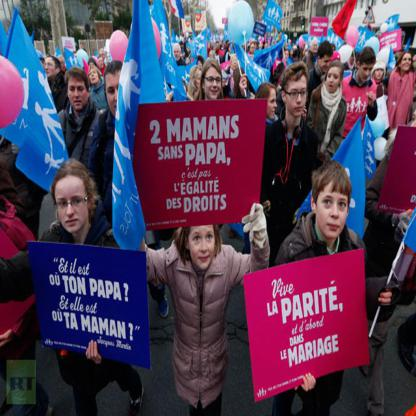face: (317, 176, 348, 240), (55, 177, 89, 234), (190, 225, 216, 271), (106, 73, 127, 116), (286, 82, 307, 117), (68, 79, 88, 111), (205, 68, 222, 100), (266, 90, 278, 120), (327, 68, 341, 93), (360, 59, 374, 81), (321, 51, 333, 73), (46, 58, 56, 78), (401, 55, 412, 72), (91, 69, 100, 85), (411, 111, 416, 138), (197, 71, 204, 90), (375, 66, 384, 79), (233, 58, 240, 71), (312, 41, 319, 53), (395, 48, 400, 64), (175, 48, 180, 60), (251, 45, 256, 54), (100, 59, 105, 68), (198, 60, 203, 69), (351, 56, 355, 67), (286, 52, 290, 62), (358, 61, 362, 71), (102, 52, 106, 61), (90, 62, 94, 71), (291, 51, 295, 58), (210, 54, 214, 61), (414, 57, 416, 70), (230, 45, 233, 53), (304, 48, 307, 55), (218, 43, 221, 49), (188, 47, 191, 53), (259, 44, 262, 50), (266, 44, 269, 50), (208, 44, 211, 49), (287, 43, 288, 47)
